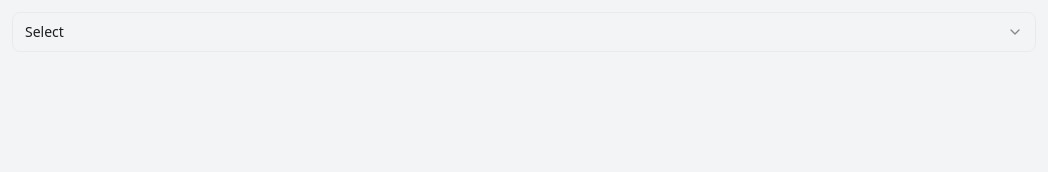
Test: Select Components › SelectItem › renders item with text when open
Click the dropdown with test id "trigger". click: click(44, 32)
box: [12, 12, 1036, 52]
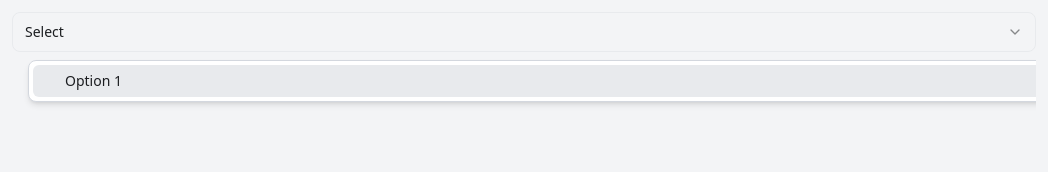
Expected: the text "Option 1" is shown, [65, 71, 122, 91]
